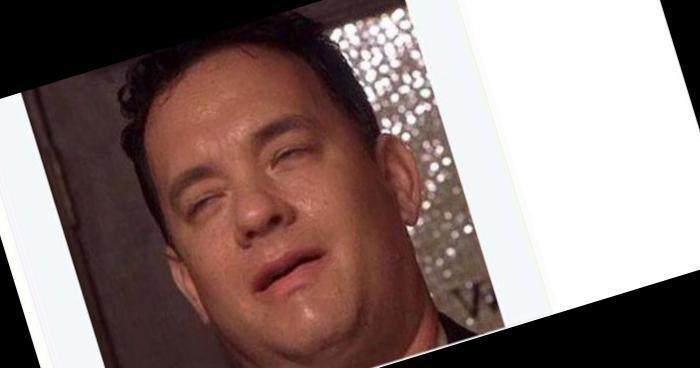Drunk: (150, 63, 403, 354)
